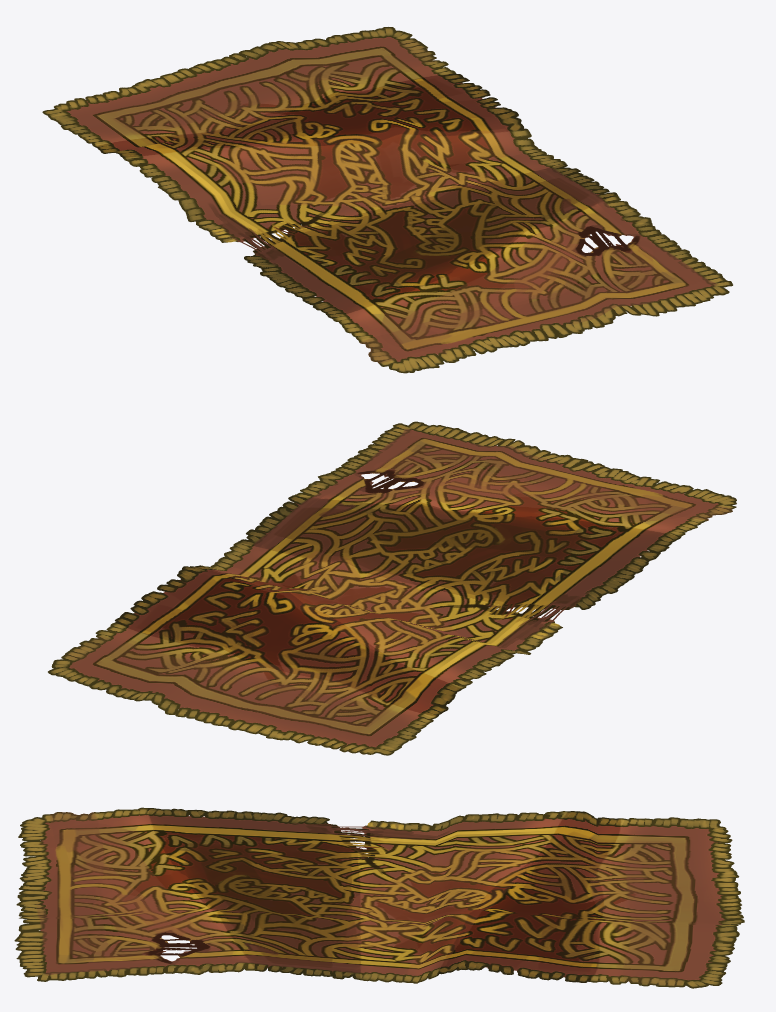
The model's file is FloorProps_OrangeCarpetDraped_Tavern_AB.fbx.
The picture shows the model from 3 angles, top to bottom: view 1: azimuth 30°, elevation 25°; view 2: azimuth 150°, elevation 25°; view 3: azimuth 270°, elevation 25°; orthographic projection. The views are drawn at different scales.
Visible parts, largest first — view 1: pPlane17; view 2: pPlane17; view 3: pPlane17.
Boxes of the visible parts, x1,y1,x2,y2 form: pPlane17: (42,27,732,373); pPlane17: (48,421,736,755); pPlane17: (14,807,744,988).
Size of the model in its own units: 234 by 12.42 by 397.
